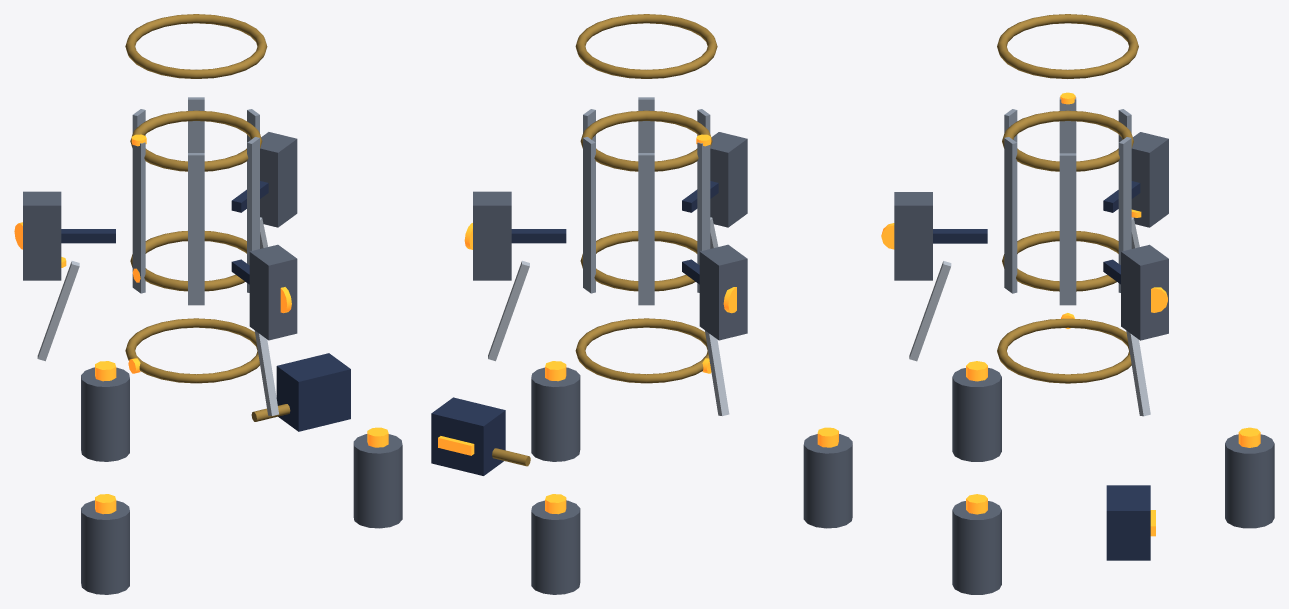
Rendered from tower_overclock_potency_s8.glb.
The picture shows the model from 3 angles, left to right: view 1: azimuth 30°, elevation 25°; view 2: azimuth 150°, elevation 25°; view 3: azimuth 270°, elevation 25°; orthographic projection.
Parts seen in each view (by area): view 1: overclock_trap_coupler, overclock_cap1, overclock_cap0, overclock_cap2, overclock_aura_emitter2, overclock_aura_emitter0, overclock_aura_emitter1, overclock_conductor_b2.36, overclock_conductor_b1.14, overclock_vane5, overclock_conductor1.98, overclock_vane0 (+6 smaller); view 2: overclock_trap_coupler, overclock_cap2, overclock_cap0, overclock_cap1, overclock_aura_emitter0, overclock_aura_emitter1, overclock_aura_emitter2, overclock_conductor_b2.36, overclock_conductor_b1.14, overclock_vane1, overclock_conductor1.98, overclock_vane2 (+6 smaller); view 3: overclock_cap0, overclock_cap1, overclock_cap2, overclock_aura_emitter1, overclock_aura_emitter2, overclock_trap_coupler, overclock_aura_emitter0, overclock_conductor_b2.36, overclock_conductor_b1.14, overclock_vane3, overclock_conductor1.98, overclock_vane4 (+6 smaller).
Part boxes in pixels (x1=…): overclock_trap_coupler: x1=276, y1=353, x2=350, y2=431; overclock_cap1: x1=353, y1=434, x2=402, y2=528; overclock_cap0: x1=81, y1=367, x2=129, y2=461; overclock_cap2: x1=81, y1=500, x2=129, y2=594; overclock_aura_emitter2: x1=249, y1=244, x2=297, y2=340; overclock_aura_emitter0: x1=23, y1=191, x2=61, y2=280; overclock_aura_emitter1: x1=260, y1=132, x2=297, y2=227; overclock_conductor_b2.36: x1=125, y1=14, x2=267, y2=78; overclock_conductor_b1.14: x1=125, y1=318, x2=259, y2=383; overclock_vane5: x1=188, y1=153, x2=204, y2=305; overclock_conductor1.98: x1=130, y1=110, x2=262, y2=171; overclock_vane0: x1=132, y1=142, x2=145, y2=293; overclock_trap_coupler: x1=431, y1=397, x2=505, y2=475; overclock_cap2: x1=803, y1=434, x2=852, y2=528; overclock_cap0: x1=531, y1=500, x2=580, y2=594; overclock_cap1: x1=531, y1=367, x2=580, y2=461; overclock_aura_emitter0: x1=699, y1=244, x2=747, y2=340; overclock_aura_emitter1: x1=473, y1=191, x2=511, y2=280; overclock_aura_emitter2: x1=710, y1=132, x2=747, y2=227; overclock_conductor_b2.36: x1=575, y1=14, x2=717, y2=78; overclock_conductor_b1.14: x1=575, y1=318, x2=709, y2=383; overclock_vane1: x1=638, y1=153, x2=654, y2=305; overclock_conductor1.98: x1=580, y1=110, x2=712, y2=171; overclock_vane2: x1=583, y1=137, x2=595, y2=293; overclock_cap0: x1=1225, y1=434, x2=1274, y2=528; overclock_cap1: x1=952, y1=501, x2=1001, y2=594; overclock_cap2: x1=952, y1=368, x2=1001, y2=461; overclock_aura_emitter1: x1=1121, y1=244, x2=1168, y2=340; overclock_aura_emitter2: x1=894, y1=192, x2=932, y2=280; overclock_trap_coupler: x1=1106, y1=485, x2=1150, y2=560; overclock_aura_emitter0: x1=1131, y1=132, x2=1168, y2=227; overclock_conductor_b2.36: x1=997, y1=14, x2=1138, y2=78; overclock_conductor_b1.14: x1=997, y1=318, x2=1131, y2=383; overclock_vane3: x1=1059, y1=153, x2=1076, y2=305; overclock_conductor1.98: x1=1002, y1=110, x2=1133, y2=171; overclock_vane4: x1=1004, y1=137, x2=1017, y2=293.
Bounding box in the file's own units: 1.39 × 1.91 × 1.43.
